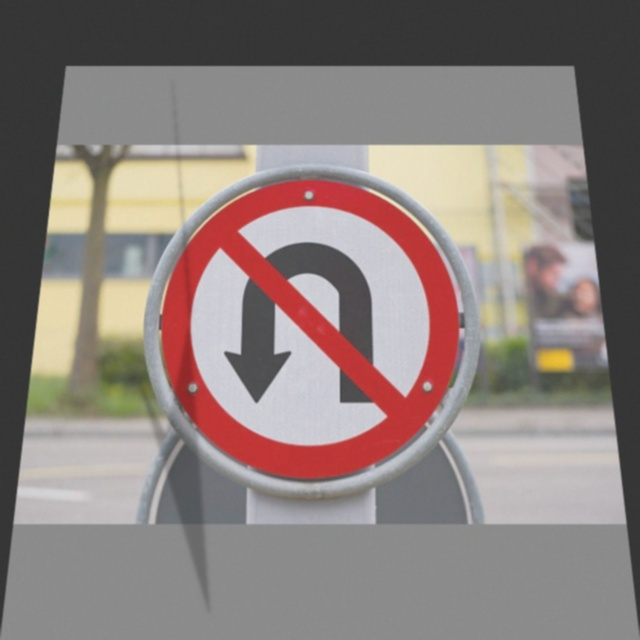U_Turn_Prohibited: (136, 169, 490, 498)
